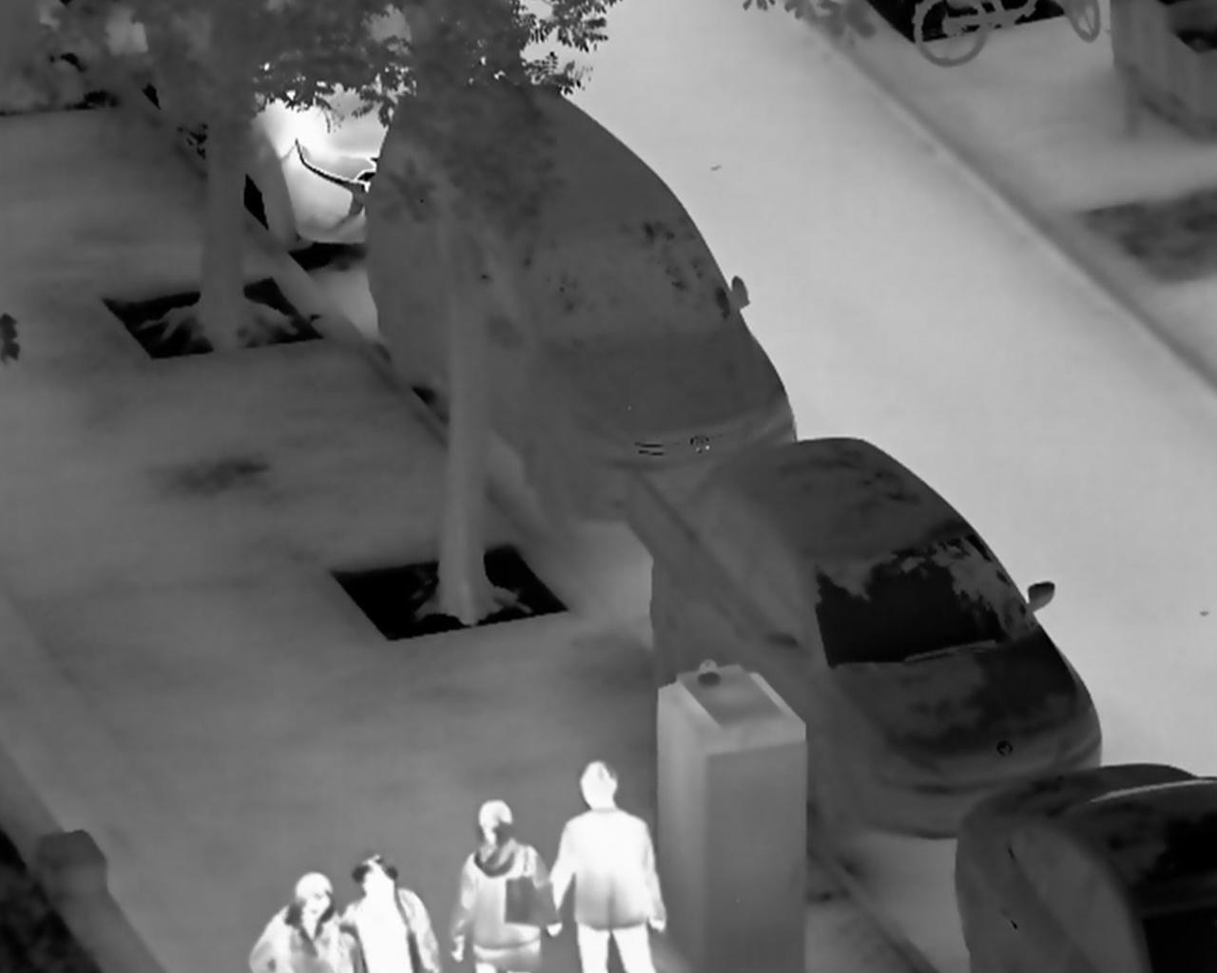person: (543, 755, 666, 973), (449, 796, 561, 973), (245, 871, 363, 973), (340, 852, 437, 973)
